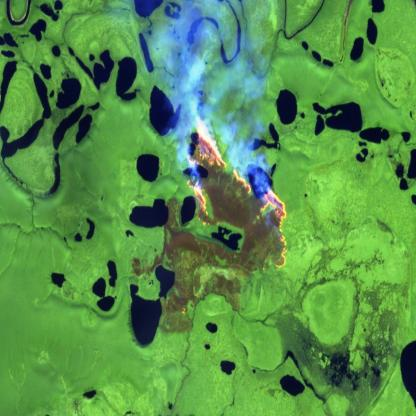fire: (185, 111, 290, 273)
